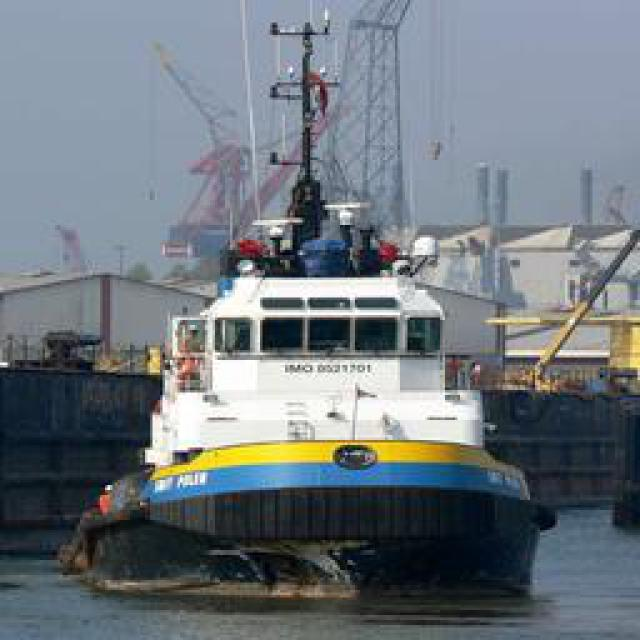Ship: (97, 128, 567, 573)
